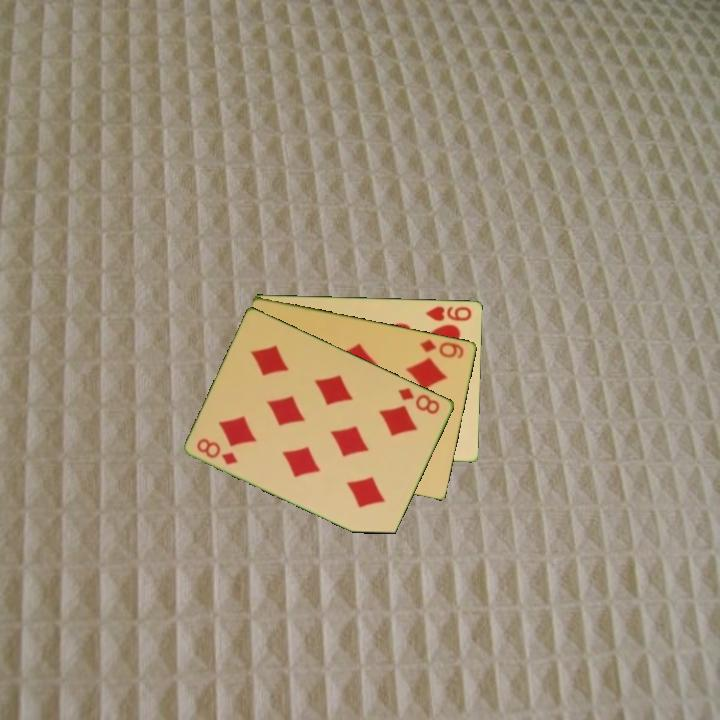6d: (416, 335, 467, 362)
8d: (193, 434, 241, 468), (395, 384, 443, 417)
9h: (422, 302, 475, 323)
